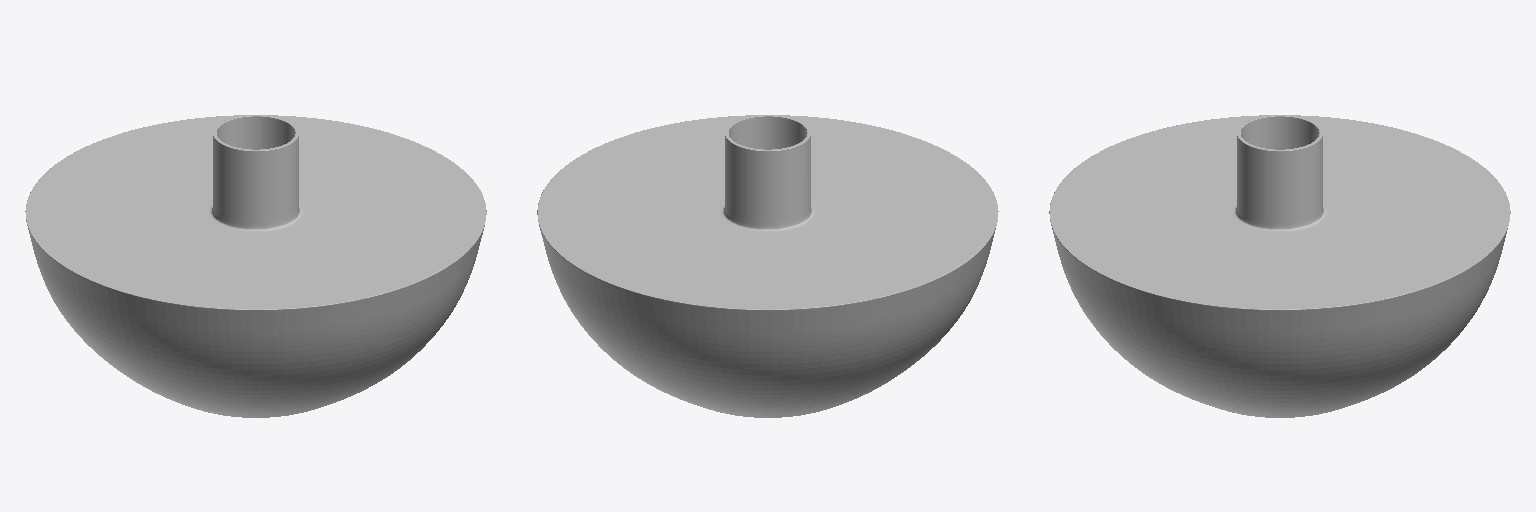
The model's file is Button pos.obj.
3 renders of one model, left to right at view 1: azimuth 30°, elevation 25°; view 2: azimuth 150°, elevation 25°; view 3: azimuth 270°, elevation 25°, orthographic.
Visible parts, largest first — view 1: Button_pos; view 2: Button_pos; view 3: Button_pos.
Boxes of the visible parts, <box> form: Button_pos: <box>25,115,486,417</box>; Button_pos: <box>537,115,998,417</box>; Button_pos: <box>1049,115,1510,417</box>.
Bounding box in the file's own units: 9.01 × 5.31 × 9.01.